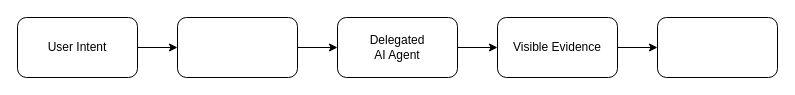
Image size: 795x95. Some labels were removed from this diagram. The shapes that lost their labels are listed below. From the top down, each one's box as (x1, y1, x2, y2) in pixels, then its label:
(176, 16, 298, 78): Owner-defined Guardrails
(656, 16, 778, 78): Controlled Product Change
